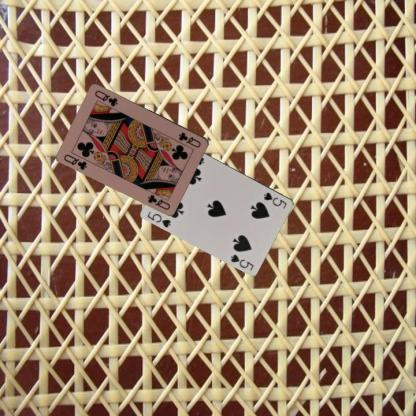5s: (261, 190, 288, 210), (145, 208, 172, 228)
Qc: (62, 151, 88, 171), (176, 130, 202, 148)
